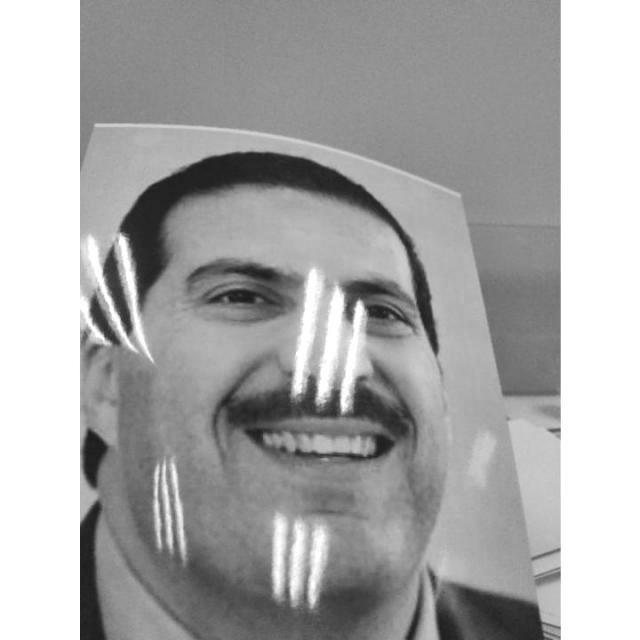fake: (79, 113, 548, 639)
